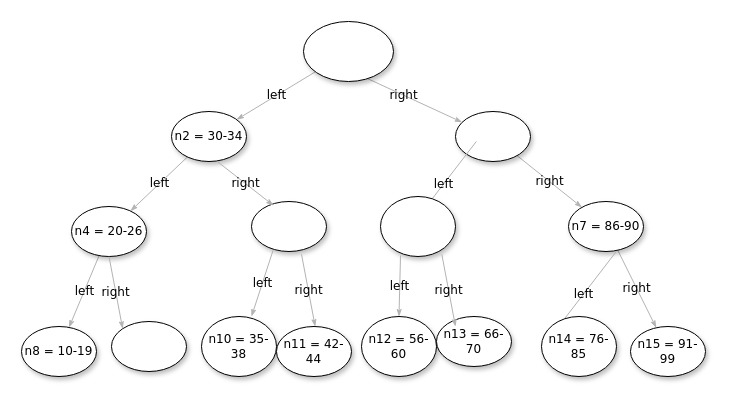
This 729x401 diagram has some shape labels left out. The centre of each missing label's shape, as x and y in pixels:
n1 = 45-55: the point at 349,52
n3 = 71-75: the point at 493,137
n5 = 39-41: the point at 289,227
n6 = 61-65: the point at 419,228
n9 = 27-29: the point at 149,347
